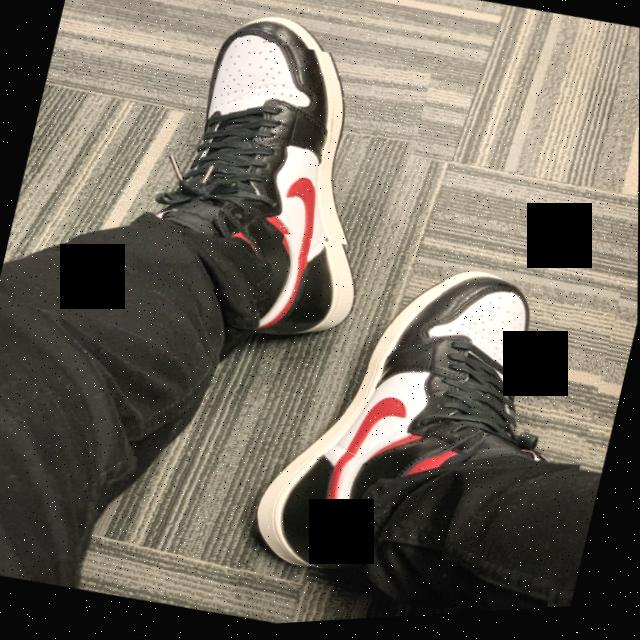shoe: (200, 222, 621, 630), (146, 23, 432, 336)
